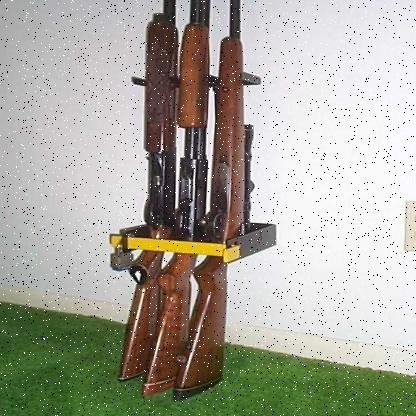rifle: (170, 0, 258, 412)
